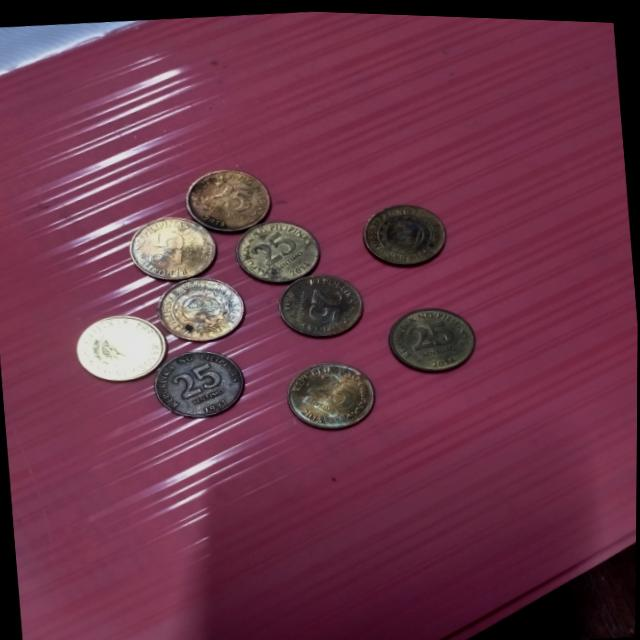25Cent_Old_Front: (238, 217, 318, 279), (389, 306, 470, 367)
